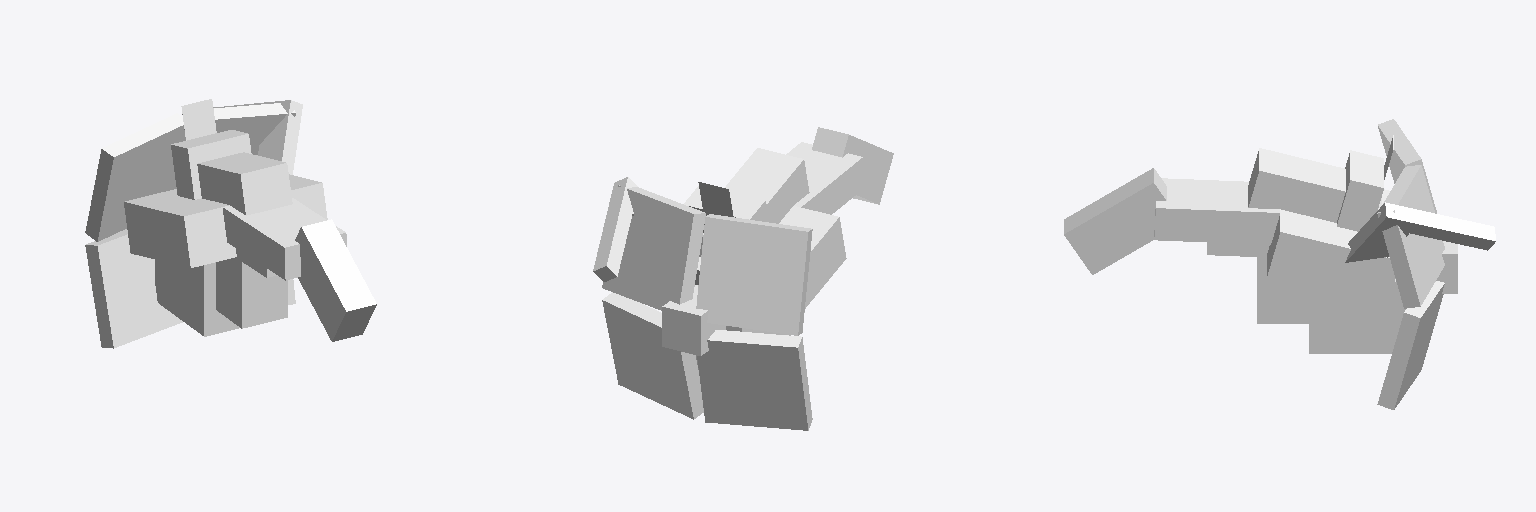
Rendered from w437mose9q0t.obj.
3 renders of one model, left to right at view 1: azimuth 30°, elevation 25°; view 2: azimuth 150°, elevation 25°; view 3: azimuth 270°, elevation 25°, orthographic.
Visible parts, largest first — view 1: meshes_13-4, meshes_12-4, meshes_3-1, meshes_9-2, meshes_3-4, meshes_1-1, meshes_2-4, meshes_9-1, meshes_7-2, meshes_6-4, meshes_7-1, meshes_3-2 (+16 smaller); view 2: meshes_12-5, meshes_13-5, meshes_15-5, meshes_14-5, meshes_6-2, meshes_7-2, meshes_3-1, meshes_9-1, meshes_0-5, meshes_7-1, meshes_6-1, meshes_3-2 (+9 smaller); view 3: meshes_3-0, meshes_1-0, meshes_9-0, meshes_7-0, meshes_6-0, meshes_15-5, meshes_7-2, meshes_2-0, meshes_6-2, meshes_14-0, meshes_3-2, meshes_4-0 (+12 smaller).
Boxes of the visible parts, x1=… form: meshes_13-4: x1=98, y1=234, x2=182, y2=347; meshes_12-4: x1=98, y1=125, x2=185, y2=241; meshes_3-1: x1=124, y1=202, x2=190, y2=267; meshes_9-2: x1=302, y1=219, x2=376, y2=311; meshes_3-4: x1=184, y1=183, x2=327, y2=267; meshes_1-1: x1=155, y1=260, x2=203, y2=335; meshes_2-4: x1=242, y1=262, x2=287, y2=328; meshes_9-1: x1=295, y1=227, x2=345, y2=340; meshes_7-2: x1=223, y1=198, x2=345, y2=247; meshes_6-4: x1=241, y1=163, x2=292, y2=215; meshes_7-1: x1=223, y1=208, x2=285, y2=280; meshes_3-2: x1=125, y1=174, x2=321, y2=215; meshes_12-5: x1=696, y1=217, x2=807, y2=335; meshes_13-5: x1=697, y1=340, x2=807, y2=430; meshes_15-5: x1=602, y1=185, x2=693, y2=310; meshes_14-5: x1=602, y1=300, x2=693, y2=419; meshes_6-2: x1=725, y1=148, x2=803, y2=203; meshes_7-2: x1=786, y1=142, x2=862, y2=206; meshes_3-1: x1=805, y1=217, x2=846, y2=308; meshes_9-1: x1=843, y1=135, x2=893, y2=204; meshes_0-5: x1=662, y1=307, x2=700, y2=355; meshes_7-1: x1=801, y1=158, x2=863, y2=214; meshes_6-1: x1=767, y1=160, x2=809, y2=223; meshes_3-2: x1=684, y1=186, x2=838, y2=270; meshes_3-0: x1=1267, y1=232, x2=1395, y2=307; meshes_1-0: x1=1309, y1=282, x2=1405, y2=353; meshes_9-0: x1=1064, y1=183, x2=1165, y2=274; meshes_7-0: x1=1154, y1=208, x2=1279, y2=244; meshes_6-0: x1=1248, y1=171, x2=1345, y2=222; meshes_15-5: x1=1394, y1=165, x2=1444, y2=305; meshes_7-2: x1=1156, y1=178, x2=1279, y2=212; meshes_2-0: x1=1257, y1=257, x2=1308, y2=323; meshes_6-2: x1=1259, y1=148, x2=1345, y2=191; meshes_14-0: x1=1377, y1=313, x2=1420, y2=409; meshes_3-2: x1=1280, y1=189, x2=1389, y2=257; meshes_4-0: x1=1337, y1=180, x2=1383, y2=231.
Bounding box in the file's own units: 13.03 × 13.96 × 24.29.